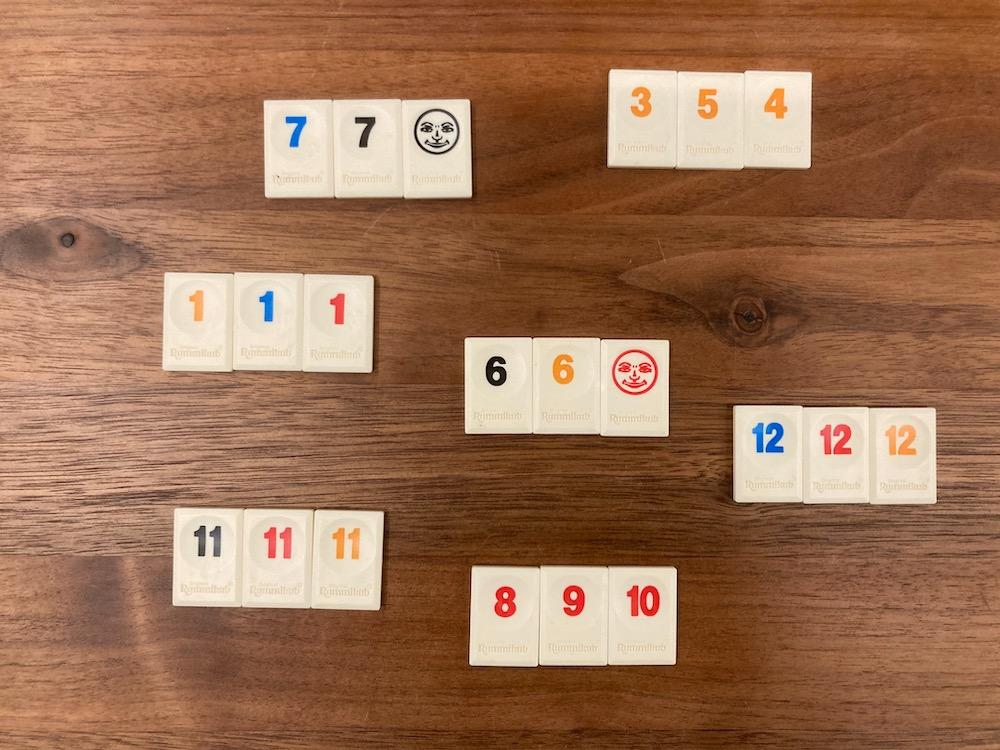black_11: (172, 511, 244, 607)
black_6: (465, 338, 533, 434)
black_7: (334, 100, 402, 197)
blue_1: (232, 274, 303, 371)
blue_12: (734, 406, 803, 502)
blue_7: (266, 100, 333, 197)
joker: (600, 340, 670, 438), (404, 100, 471, 197)
orange_1: (162, 274, 234, 371)
orange_11: (311, 510, 385, 611)
orange_12: (871, 408, 936, 504)
orange_3: (607, 71, 678, 168)
orange_4: (744, 70, 812, 168)
orange_5: (676, 73, 744, 170)
orange_6: (533, 338, 600, 434)
red_1: (303, 275, 373, 373)
red_10: (607, 567, 676, 664)
red_11: (242, 511, 312, 607)
red_12: (803, 408, 869, 502)
red_8: (469, 566, 539, 666)
red_9: (539, 567, 607, 666)
